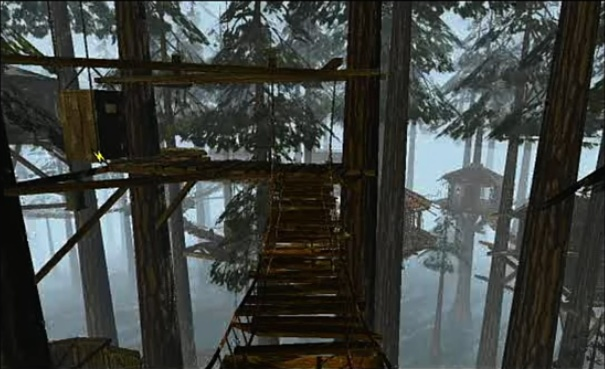Keep: (90, 147, 110, 166)
